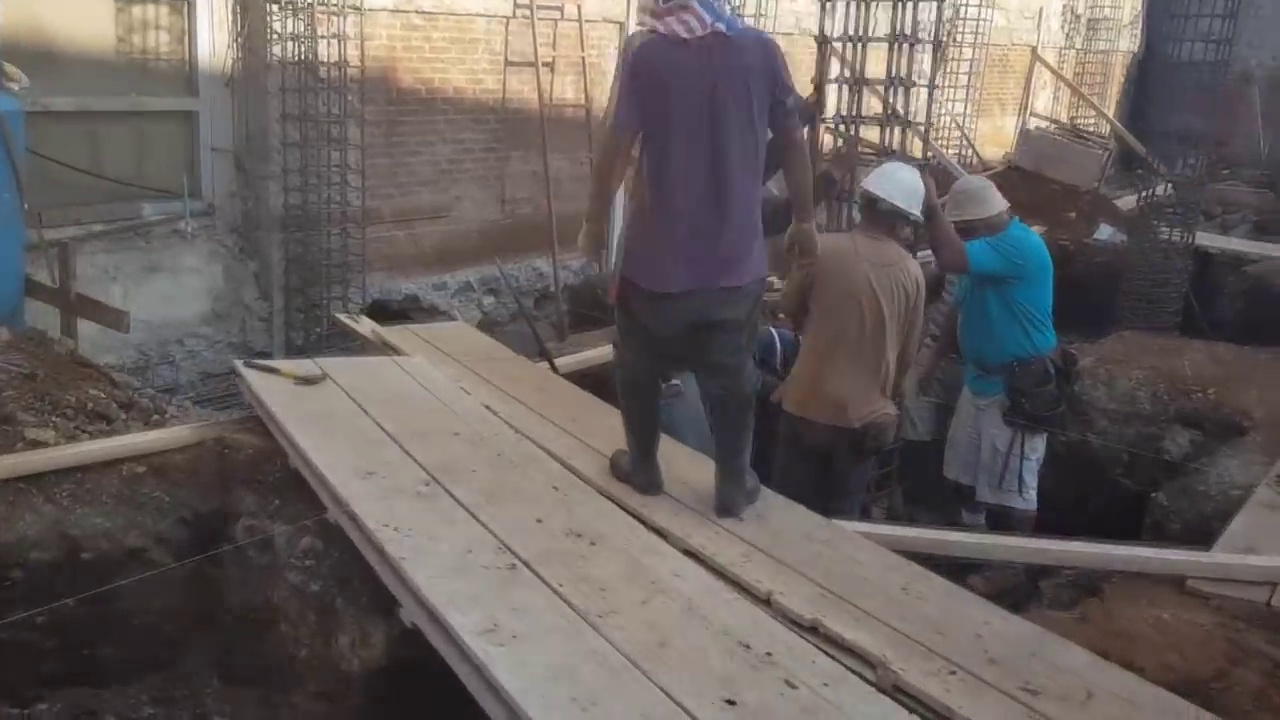helmet: (854, 158, 928, 223)
helmet-off: (950, 167, 1018, 243)
helmet-on: (857, 161, 944, 251)
person: (578, 6, 826, 491), (760, 166, 931, 539), (935, 162, 1064, 545)
